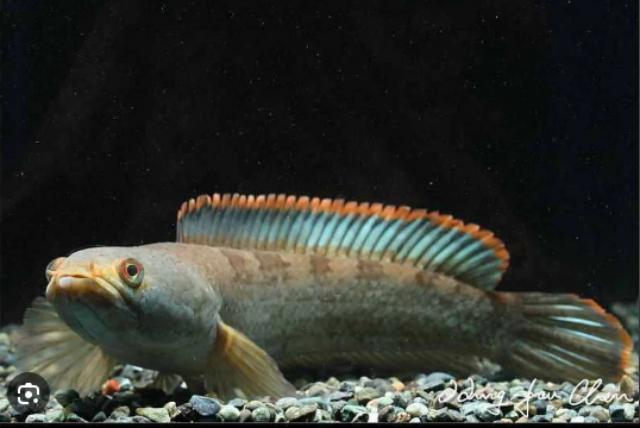Mulut: (39, 261, 155, 331)
Sirip Anal: (280, 343, 488, 385)
Sirip Dada: (3, 291, 116, 405), (202, 312, 302, 410)
Sirip Ekor: (478, 279, 638, 391)
Sirip Perut: (132, 363, 200, 405)
Sirip Punggung: (172, 188, 514, 294)
